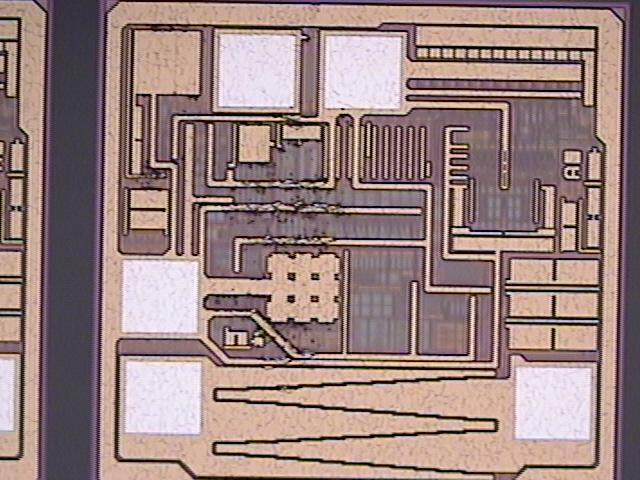PO CONTAMINATION: (206, 106, 356, 400), (133, 19, 222, 198)
